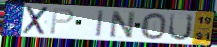I: (94, 9, 106, 38)
N: (109, 9, 137, 39)
O: (140, 12, 167, 41)
P: (49, 7, 76, 35)
U: (166, 12, 195, 42)
X: (21, 6, 50, 37)
